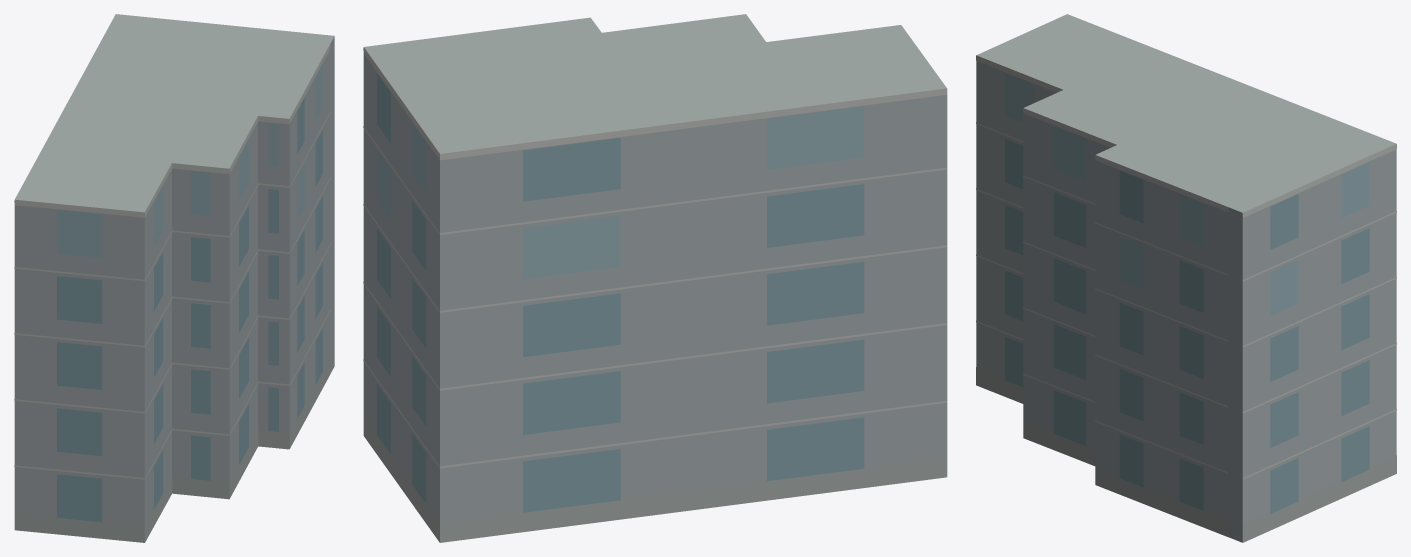
The model's file is survey-upis-32716302.glb.
The picture shows the model from 3 angles, left to right: view 1: azimuth 30°, elevation 25°; view 2: azimuth 150°, elevation 25°; view 3: azimuth 270°, elevation 25°; orthographic projection. The views are drawn at different scales.
Visible parts, largest first — view 1: survey-upis-32716302.tmp; view 2: survey-upis-32716302.tmp; view 3: survey-upis-32716302.tmp.
Part boxes in pixels (x1,y1,x2,y2): survey-upis-32716302.tmp: [14, 14, 334, 542]; survey-upis-32716302.tmp: [363, 14, 947, 542]; survey-upis-32716302.tmp: [976, 14, 1396, 542].
Size of the model in its own units: 19.14 by 14.8 by 17.11.
